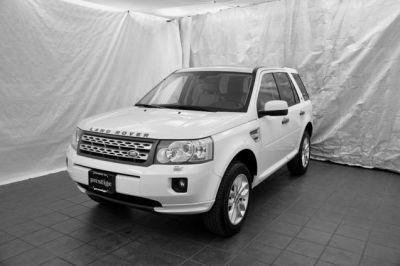car: (66, 66, 314, 235)
